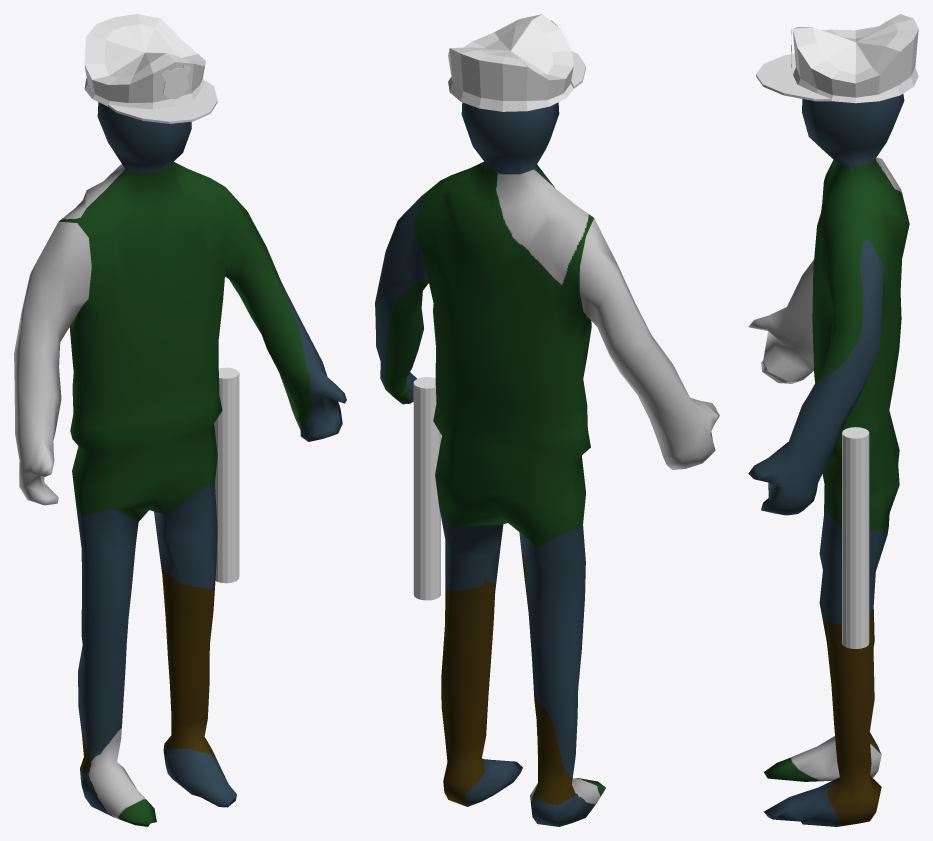
File: Polizist_mesh.fbx
The picture shows the model from 3 angles, left to right: view 1: azimuth 30°, elevation 25°; view 2: azimuth 150°, elevation 25°; view 3: azimuth 270°, elevation 25°; orthographic projection. The views are drawn at different scales.
Visible parts, largest first — view 1: Polizei, PoliceHat, Glob; view 2: Polizei, PoliceHat, Glob; view 3: Polizei, PoliceHat, Glob.
Part boxes in pixels (x1,y1,x2,y2): Polizei: (14, 102, 346, 826); PoliceHat: (84, 14, 217, 123); Glob: (214, 367, 239, 583); Polizei: (375, 102, 719, 826); PoliceHat: (448, 14, 585, 111); Glob: (413, 377, 440, 600); Polizei: (748, 94, 909, 826); PoliceHat: (756, 14, 918, 103); Glob: (842, 427, 869, 648).
Size of the model in its own units: 81.87 by 185 by 37.22.
